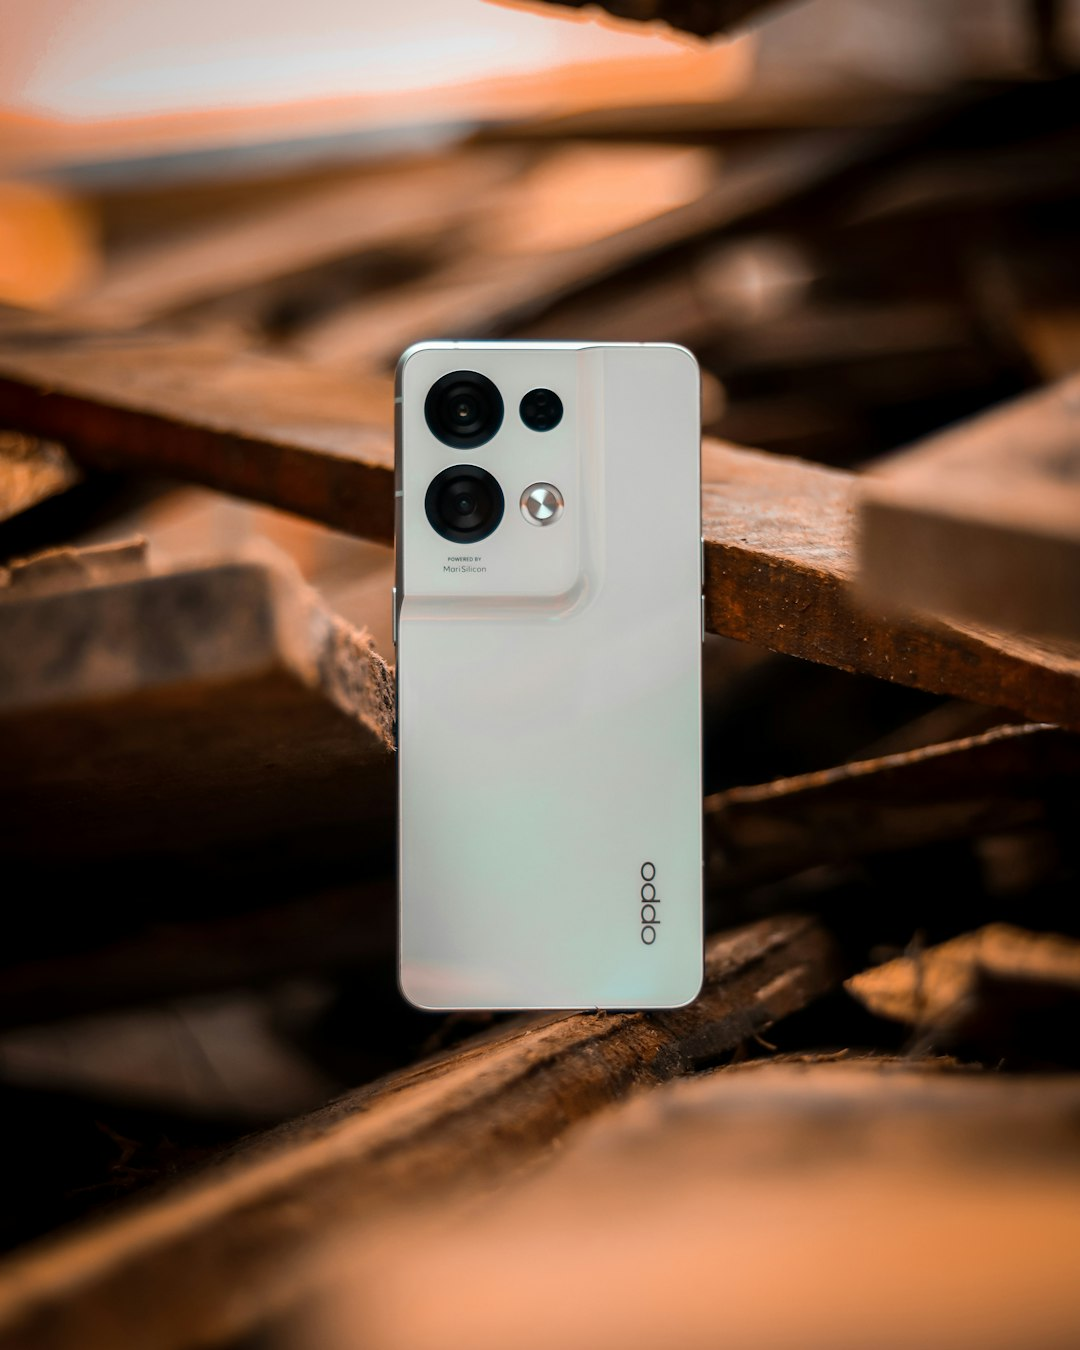phone: (393, 336, 696, 1015)
